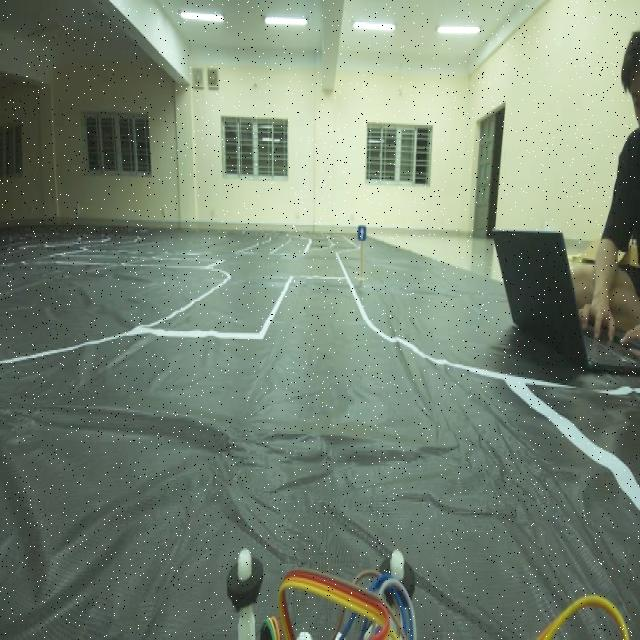onewayroad: (355, 218, 369, 242)
